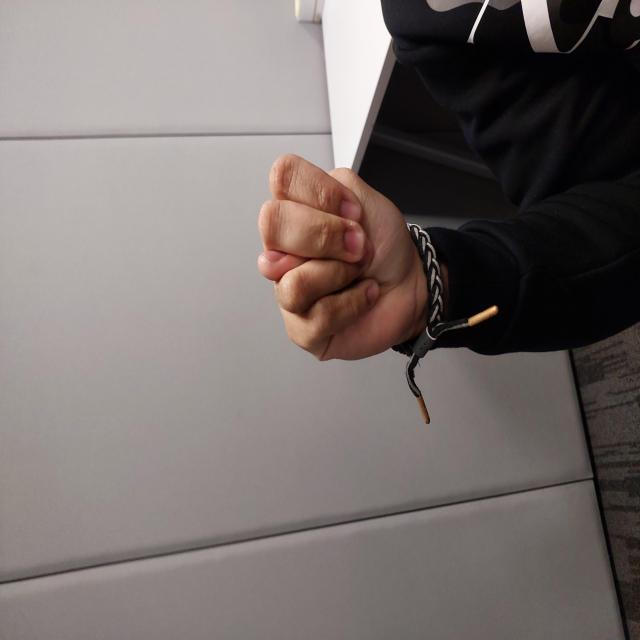N: (277, 256, 489, 418)
